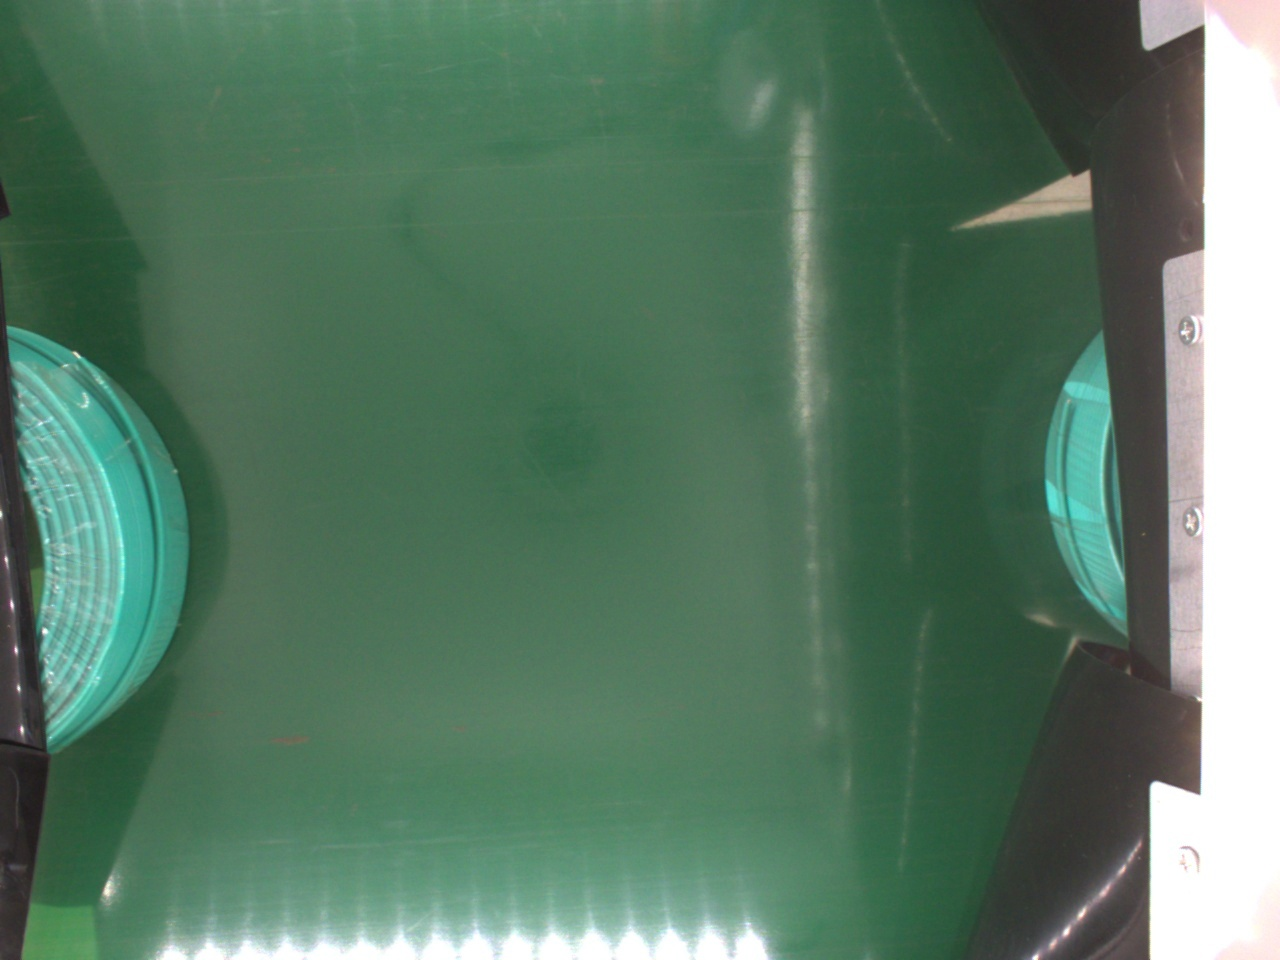green: (5, 323, 193, 746), (1045, 333, 1126, 624)
